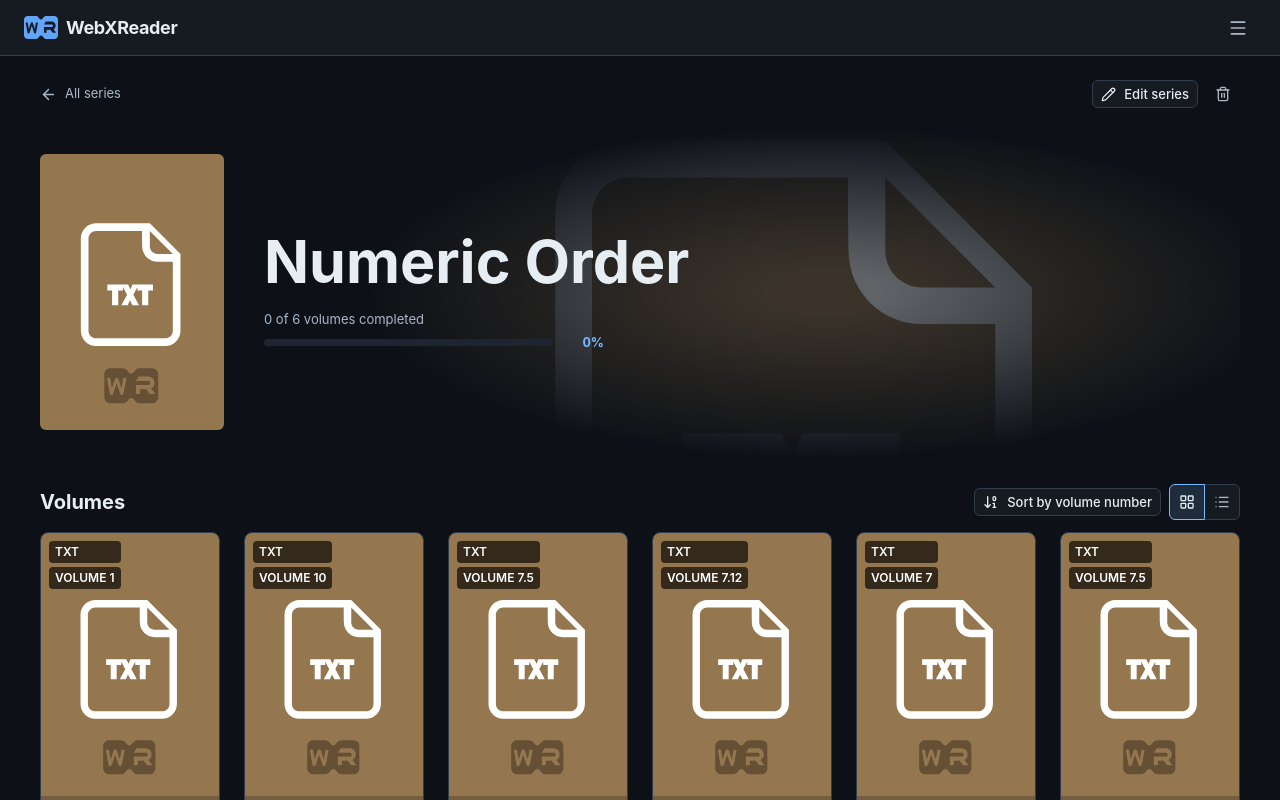
Test case: Series › saves numeric sorting for decimal filenames and titles, with unnumbered entries last
The width and height of the screenshot is (1280, 800).
Click the button "Sort by volume number" at (1068, 502), box [974, 488, 1161, 516]
(page scrolled)
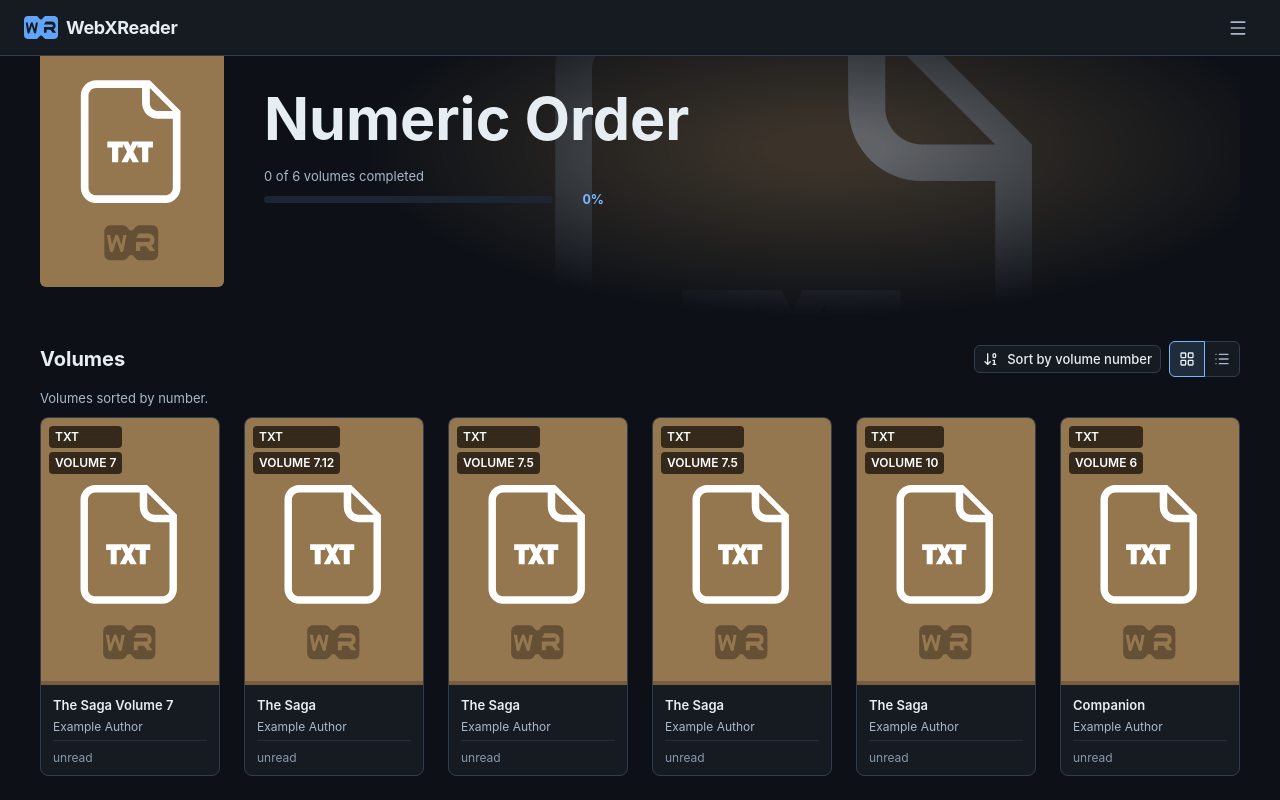
expect the 1st button "txt Volume 7.5 The Saga Example Author unread" is shown: met, box [448, 416, 628, 776]
expect the text "Volumes sorted by number." is shown: met, box [40, 390, 208, 406]
